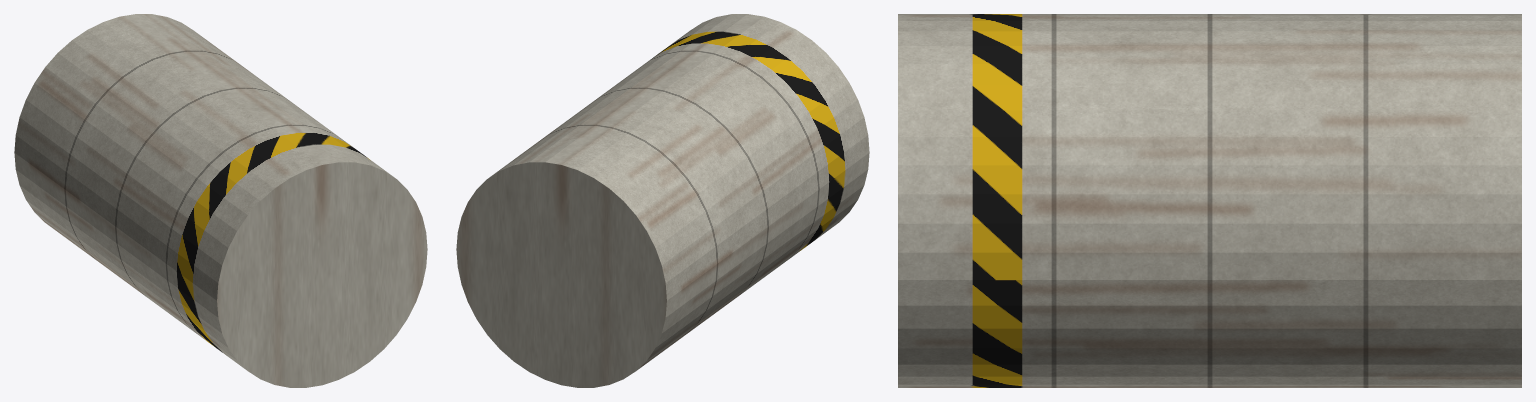
Rendered from tank_2.obj.
3 renders of one model, left to right at view 1: azimuth 30°, elevation 25°; view 2: azimuth 150°, elevation 25°; view 3: azimuth 270°, elevation 25°, orthographic. The views are drawn at different scales.
Bounding box in the file's own units: 2.4 × 2.4 × 4.
1 material, 1 textured.
